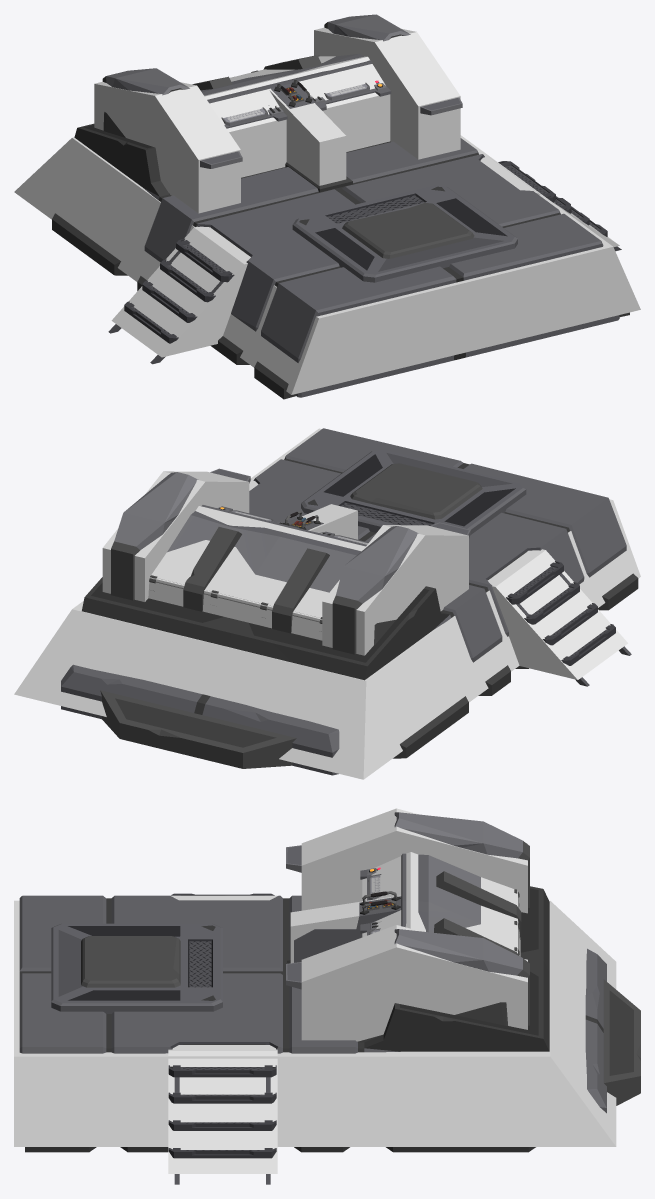
Rendered from SM_Bld_Bridge_Platform_01.fbx.
3 renders of one model, top to bottom at view 1: azimuth 30°, elevation 25°; view 2: azimuth 150°, elevation 25°; view 3: azimuth 270°, elevation 25°, orthographic. The views are drawn at different scales.
Visible parts, largest first — view 1: SM_Bld_Bridge_Platform_01_ConvexHulls, SM_Bld_Bridge_Platform_01_LOD0; view 2: SM_Bld_Bridge_Platform_01_LOD0, SM_Bld_Bridge_Platform_01_ConvexHulls; view 3: SM_Bld_Bridge_Platform_01_ConvexHulls, SM_Bld_Bridge_Platform_01_LOD0.
Boxes of the visible parts, <box> form: SM_Bld_Bridge_Platform_01_ConvexHulls: <box>14,27,640,394</box>; SM_Bld_Bridge_Platform_01_LOD0: <box>52,14,629,399</box>; SM_Bld_Bridge_Platform_01_LOD0: <box>61,428,638,775</box>; SM_Bld_Bridge_Platform_01_ConvexHulls: <box>14,428,640,779</box>; SM_Bld_Bridge_Platform_01_ConvexHulls: <box>14,808,616,1173</box>; SM_Bld_Bridge_Platform_01_LOD0: <box>19,812,640,1184</box>.
Size of the model in its own units: 734 by 689 by 241.
Materials: 1 (1 with a texture image).
